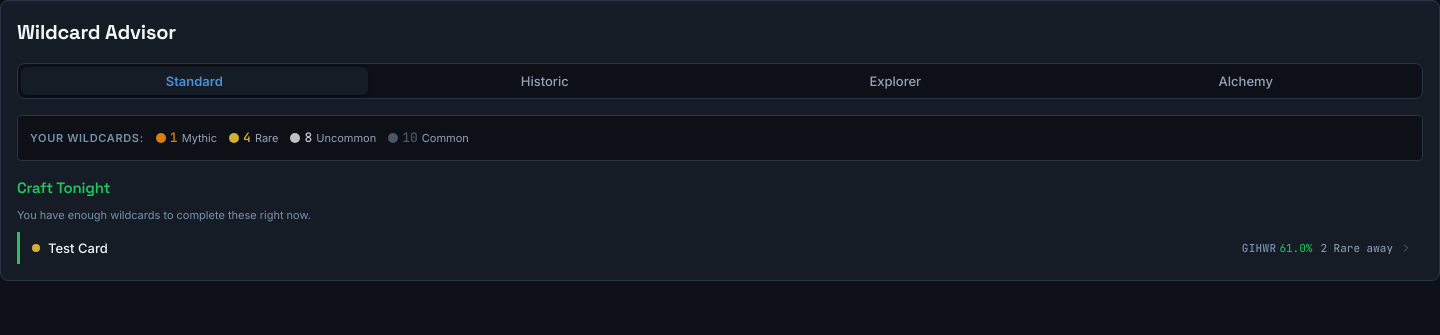
Scenario: WildcardAdvisorPanel › State 2 — data with recommendations › drill-down does not render Context row when format_context is absent
Click the text "Test Card": (78,248) [48, 240, 108, 256]
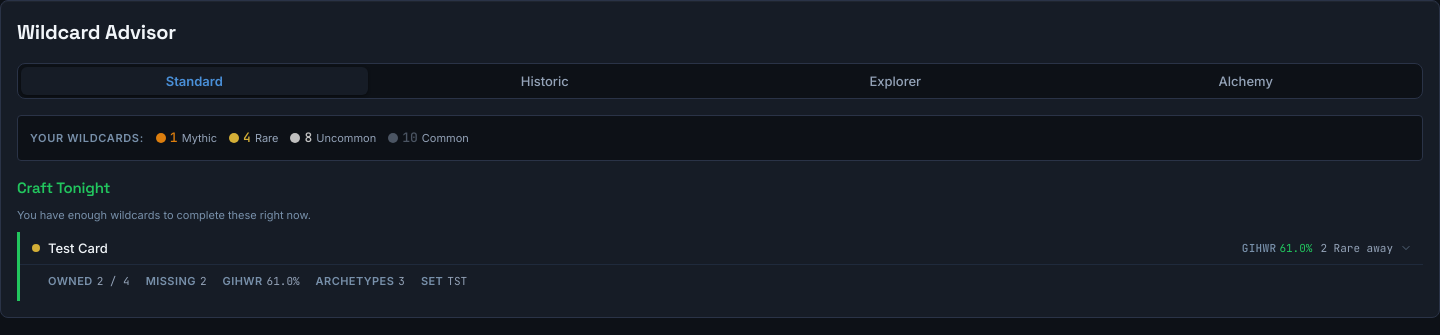
Now the element with test id "wildcard-advisor-drill-down" is shown, box [20, 264, 1423, 301]
